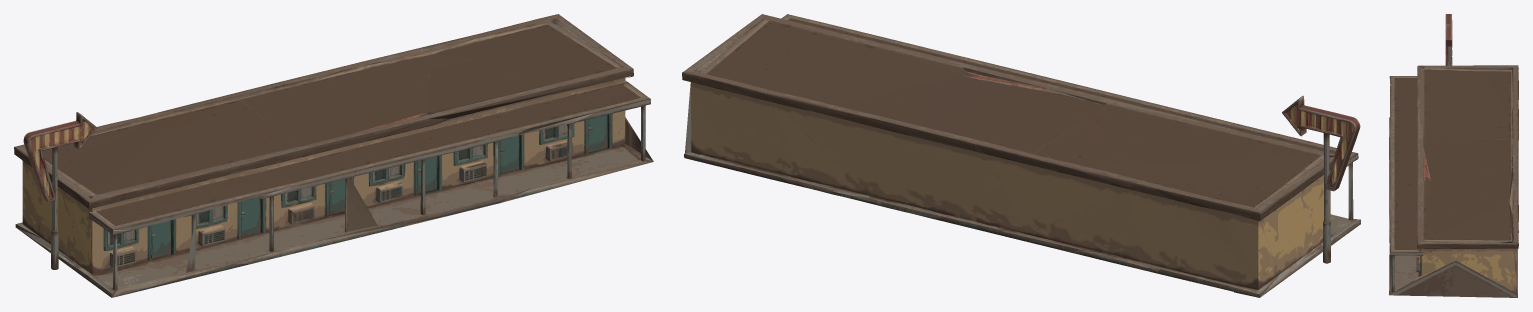
Rendered from motel.glb.
3 renders of one model, left to right at view 1: azimuth 30°, elevation 25°; view 2: azimuth 150°, elevation 25°; view 3: azimuth 270°, elevation 25°, orthographic. The views are drawn at different scales.
Parts seen in each view (by area): view 1: placed; view 2: placed; view 3: placed.
Part boxes in pixels (x1,y1,x2,y2): placed: [14, 14, 653, 297]; placed: [682, 14, 1360, 297]; placed: [1389, 14, 1518, 297].
Size of the model in its own units: 34 by 8.31 by 9.72.
1 material, 1 textured.
